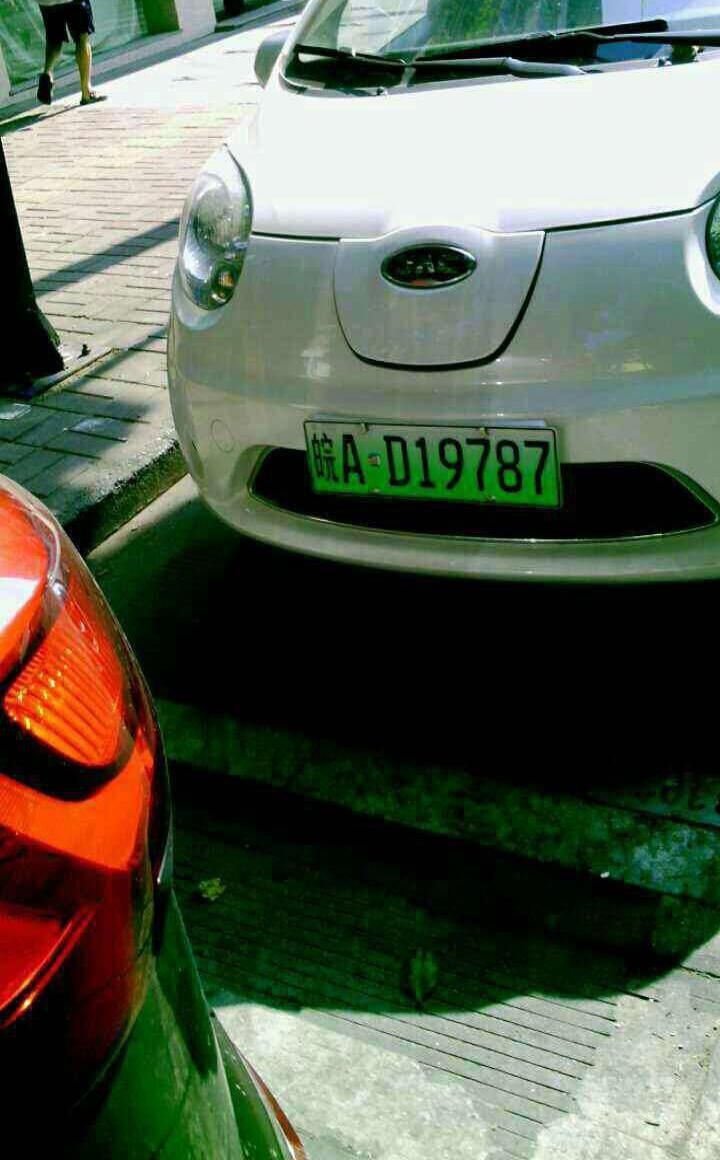car_id: (299, 424, 554, 503)
